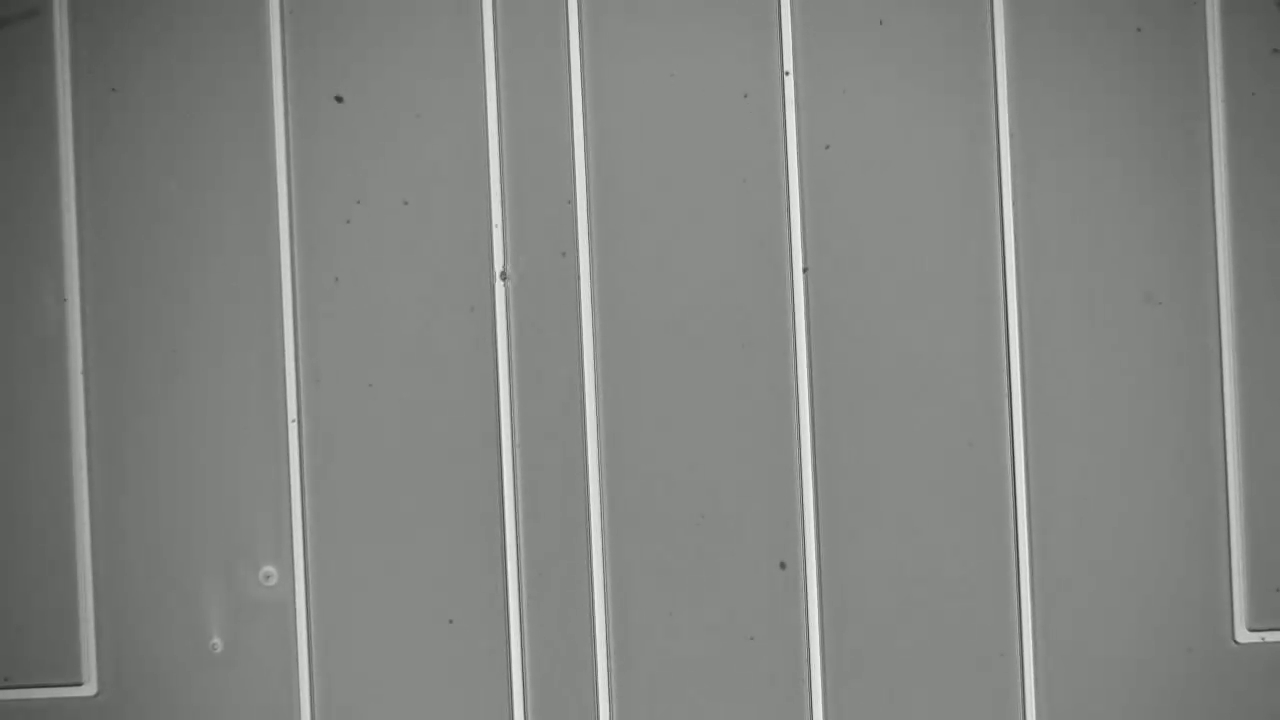stains_enbedded: (489, 258, 514, 290)
